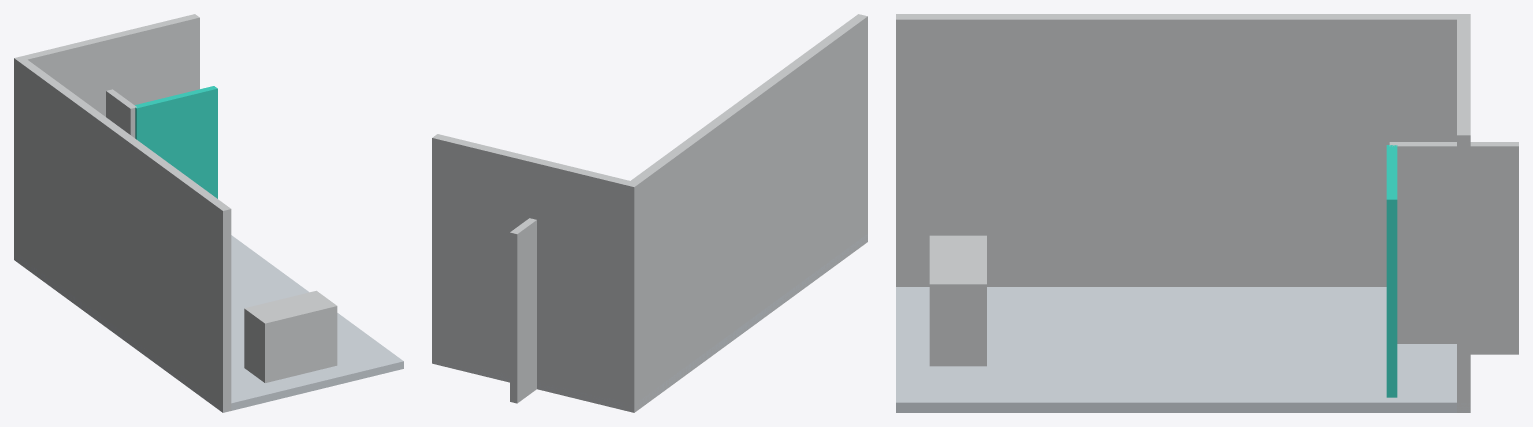
3 renders of one model, left to right at view 1: azimuth 30°, elevation 25°; view 2: azimuth 150°, elevation 25°; view 3: azimuth 270°, elevation 25°, orthographic. The views are drawn at different scales.
Visible parts, largest first — view 1: Exhibition Booth Concept; view 2: Exhibition Booth Concept; view 3: Exhibition Booth Concept.
Boxes of the visible parts, box(x1,y1,x2,y2) form: Exhibition Booth Concept: box(14, 14, 403, 412); Exhibition Booth Concept: box(432, 14, 867, 412); Exhibition Booth Concept: box(896, 14, 1518, 412).
Size of the model in its own units: 3 by 3.2 by 6.51.
